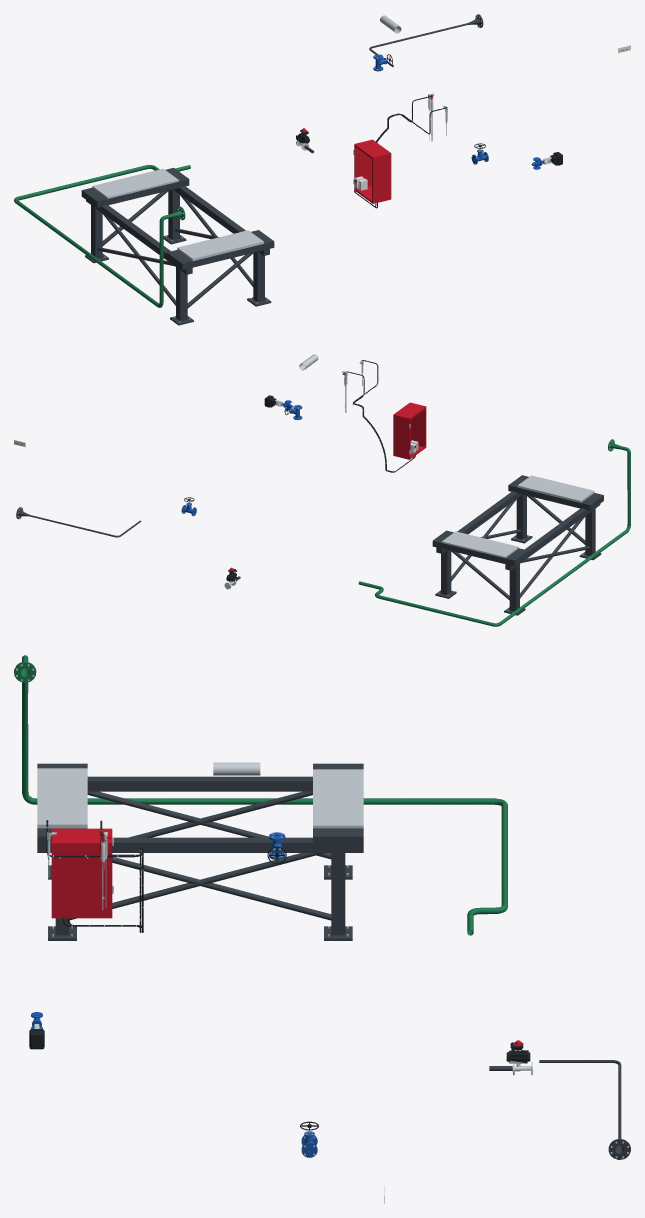
Rendered from s4000-7-NluDY-Qj.glb.
3 renders of one model, top to bottom at view 1: azimuth 30°, elevation 25°; view 2: azimuth 150°, elevation 25°; view 3: azimuth 270°, elevation 25°, orthographic. The views are drawn at different scales.
Visible parts, largest first — view 1: deaerator_support / dark, deaerator_support / steel, deaerator_feed / green, control_cabinet / control_cabinet_0.npz; view 2: deaerator_support / dark, deaerator_support / steel, deaerator_feed / green, control_cabinet / control_cabinet_0.npz; view 3: deaerator_support / dark, deaerator_support / steel, control_cabinet / control_cabinet_0.npz, deaerator_feed / green, tds_to_fv / dark.
Part boxes in pixels (x1,y1,x2,y2): deaerator_support / dark: (81, 167, 274, 325); deaerator_support / steel: (92, 168, 267, 322); deaerator_feed / green: (14, 165, 190, 307); control_cabinet / control_cabinet_0.npz: (353, 139, 391, 203); deaerator_support / dark: (432, 475, 603, 615); deaerator_support / steel: (438, 475, 594, 610); deaerator_feed / green: (358, 439, 630, 626); control_cabinet / control_cabinet_0.npz: (393, 402, 426, 459); deaerator_support / dark: (37, 763, 363, 940); deaerator_support / steel: (37, 768, 363, 936); control_cabinet / control_cabinet_0.npz: (51, 828, 113, 918); deaerator_feed / green: (14, 655, 507, 935); tds_to_fv / dark: (539, 1060, 630, 1159).
Bounding box in the file's own units: 9.48 × 3.06 × 5.37.
